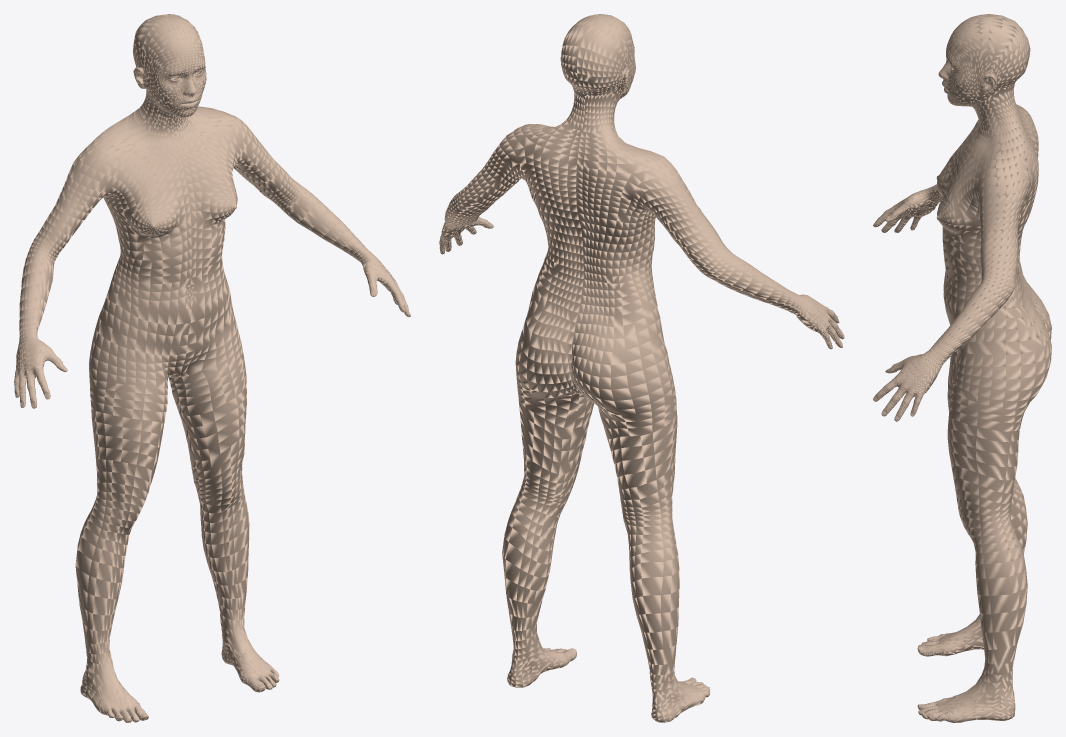
The model's file is female_medium_medium.glb.
3 renders of one model, left to right at view 1: azimuth 30°, elevation 25°; view 2: azimuth 150°, elevation 25°; view 3: azimuth 270°, elevation 25°, orthographic. The views are drawn at different scales.
Parts seen in each view (by area): view 1: female_medium_mediumMesh; view 2: female_medium_mediumMesh; view 3: female_medium_mediumMesh.
Boxes of the visible parts, x1,y1,x2,y2 form: female_medium_mediumMesh: (14, 14, 410, 722); female_medium_mediumMesh: (439, 14, 844, 722); female_medium_mediumMesh: (873, 14, 1051, 722).
Size of the model in its own units: 9.81 by 16.06 by 3.91.
